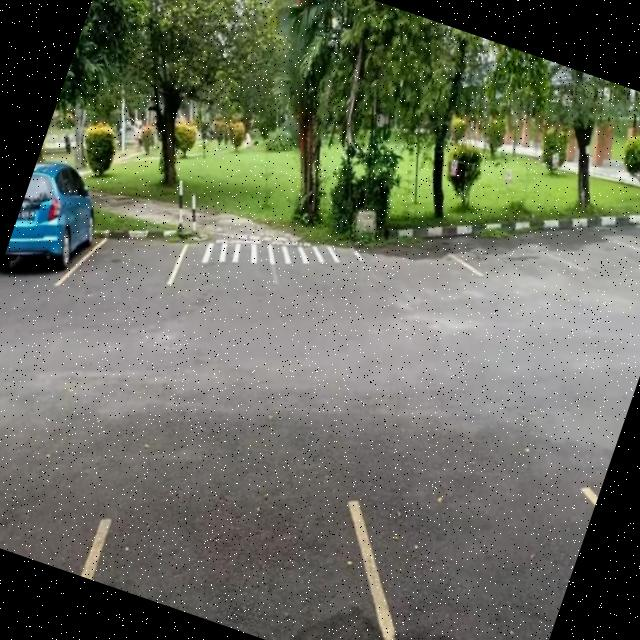empty: (352, 489, 600, 640), (66, 179, 204, 316), (444, 199, 560, 300), (530, 198, 640, 303)
occupied: (0, 179, 118, 320)
